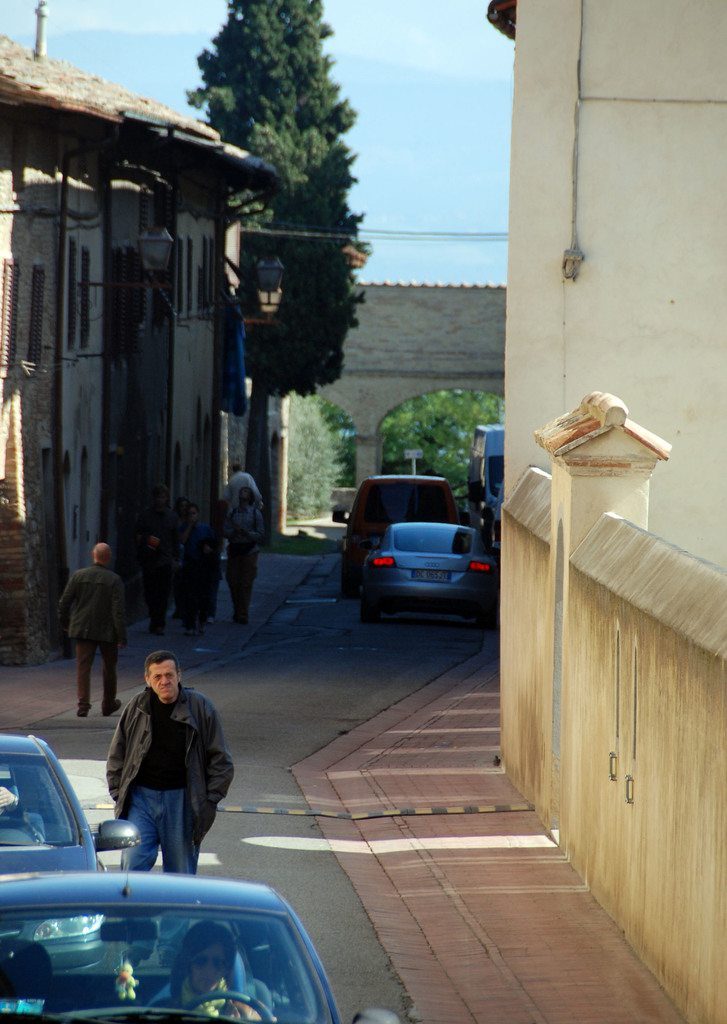Car: (0, 876, 401, 1023), (0, 736, 140, 975), (332, 475, 468, 597), (356, 521, 499, 623)
